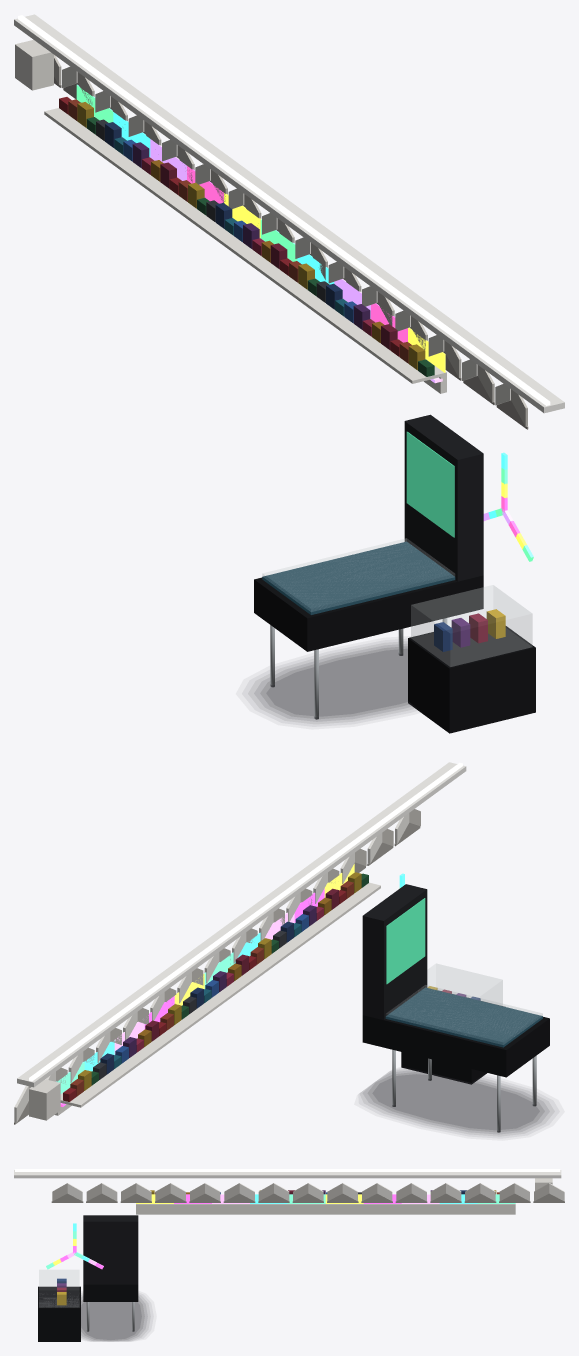
File: Arcade_East_Shelf.glb
The picture shows the model from 3 angles, top to bottom: view 1: azimuth 30°, elevation 25°; view 2: azimuth 150°, elevation 25°; view 3: azimuth 270°, elevation 25°; orthographic projection. The views are drawn at different scales.
Parts seen in each view (by area): view 1: root; view 2: root; view 3: root.
Part boxes in pixels (x1,y1,x2,y2): root: (14,14,564,733); root: (14,762,554,1136); root: (14,1169,564,1341).
Bounding box in the file's own units: 1.68 × 2.39 × 7.03.
